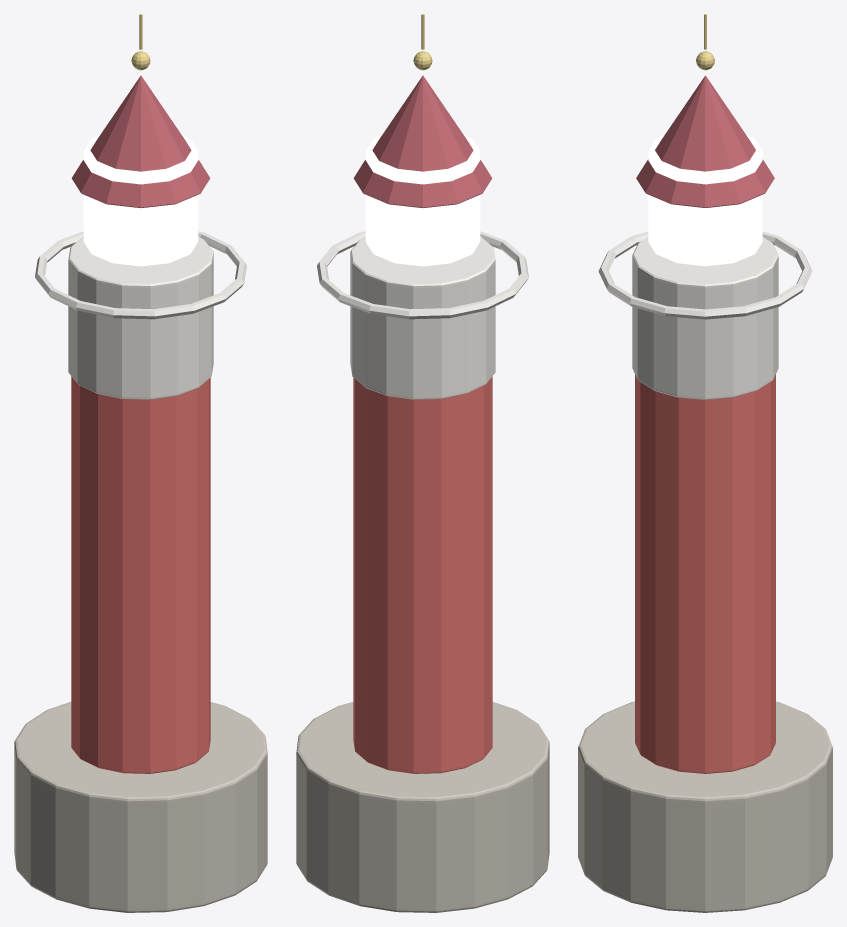
The model's file is leuchtturm_lod2.fbx.
3 views of the same model, side by side, from view 1: azimuth 30°, elevation 25°; view 2: azimuth 150°, elevation 25°; view 3: azimuth 270°, elevation 25° (orthographic).
Visible parts, largest first — view 1: Leuchtturm_Turm_LOD2, Leuchtturm_Sockel_LOD2, Leuchtturm_Turm_Weiss_LOD2, Leuchtturm_Dach_LOD2, Leuchtturm_Laterne_LOD2, Leuchtturm_Veranda_LOD2; view 2: Leuchtturm_Turm_LOD2, Leuchtturm_Sockel_LOD2, Leuchtturm_Turm_Weiss_LOD2, Leuchtturm_Dach_LOD2, Leuchtturm_Laterne_LOD2, Leuchtturm_Veranda_LOD2; view 3: Leuchtturm_Turm_LOD2, Leuchtturm_Sockel_LOD2, Leuchtturm_Turm_Weiss_LOD2, Leuchtturm_Dach_LOD2, Leuchtturm_Laterne_LOD2, Leuchtturm_Veranda_LOD2.
Boxes of the visible parts, left/top/right/bottom form: Leuchtturm_Turm_LOD2: left=71, top=376, right=210, bottom=773; Leuchtturm_Sockel_LOD2: left=14, top=702, right=267, bottom=912; Leuchtturm_Turm_Weiss_LOD2: left=68, top=236, right=213, bottom=399; Leuchtturm_Dach_LOD2: left=71, top=75, right=210, bottom=207; Leuchtturm_Laterne_LOD2: left=83, top=135, right=198, bottom=266; Leuchtturm_Veranda_LOD2: left=35, top=231, right=246, bottom=319; Leuchtturm_Turm_LOD2: left=353, top=376, right=492, bottom=773; Leuchtturm_Sockel_LOD2: left=296, top=702, right=549, bottom=912; Leuchtturm_Turm_Weiss_LOD2: left=350, top=236, right=495, bottom=399; Leuchtturm_Dach_LOD2: left=353, top=75, right=492, bottom=207; Leuchtturm_Laterne_LOD2: left=365, top=135, right=480, bottom=266; Leuchtturm_Veranda_LOD2: left=317, top=231, right=528, bottom=319; Leuchtturm_Turm_LOD2: left=635, top=374, right=775, bottom=773; Leuchtturm_Sockel_LOD2: left=578, top=701, right=832, bottom=912; Leuchtturm_Turm_Weiss_LOD2: left=632, top=237, right=778, bottom=399; Leuchtturm_Dach_LOD2: left=636, top=75, right=774, bottom=207; Leuchtturm_Laterne_LOD2: left=648, top=135, right=762, bottom=266; Leuchtturm_Veranda_LOD2: left=598, top=231, right=812, bottom=319.
Size of the model in its own units: 4 by 14.65 by 4.
